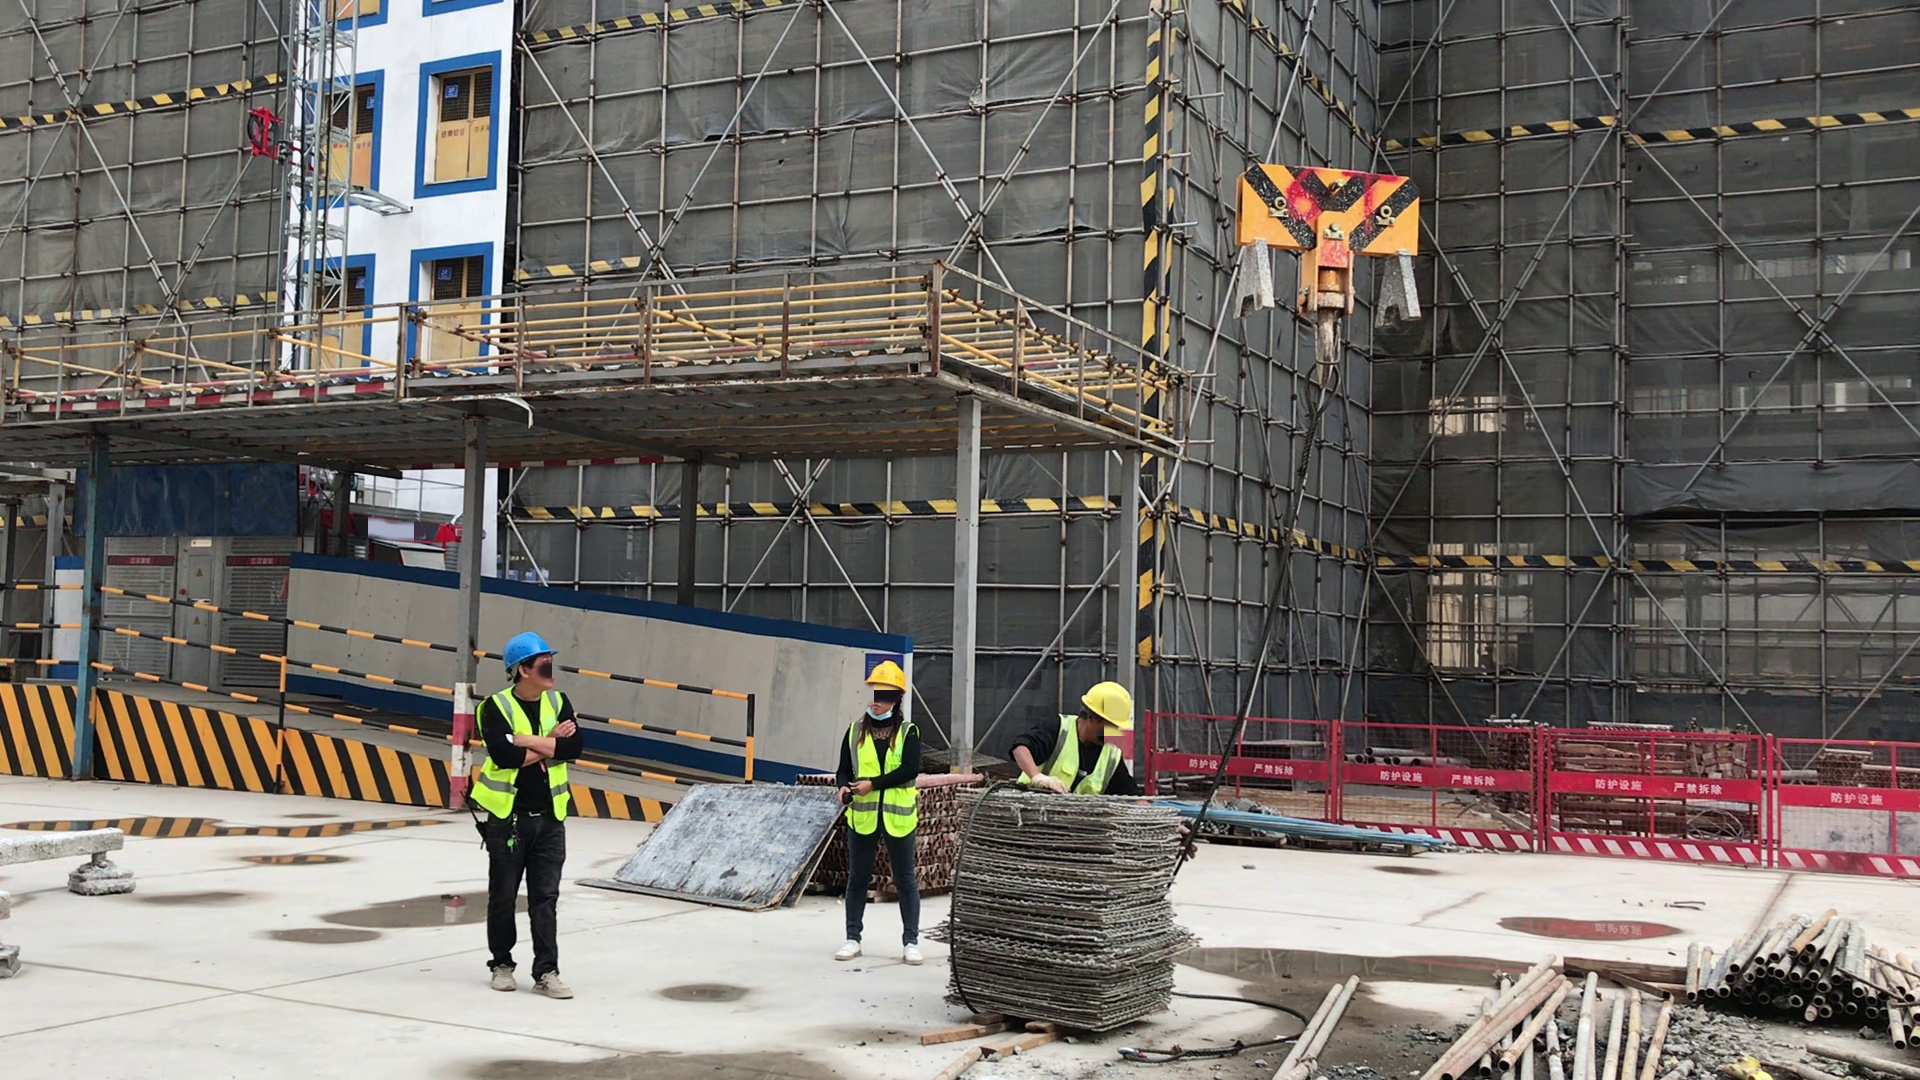fence: (1421, 704, 1919, 885), (117, 578, 437, 741), (589, 660, 767, 772), (1262, 708, 1418, 817), (6, 574, 81, 680)
helmet: (1076, 680, 1137, 731), (501, 633, 558, 672), (867, 661, 909, 695)
hook: (1215, 157, 1429, 376)
person: (466, 629, 588, 1007), (831, 661, 936, 974), (1012, 679, 1151, 795)
scaffold: (1666, 905, 1920, 1043)
slogan: (247, 557, 279, 567), (126, 555, 157, 564)
vest: (479, 686, 574, 827), (847, 718, 919, 841), (1017, 737, 1127, 794)
